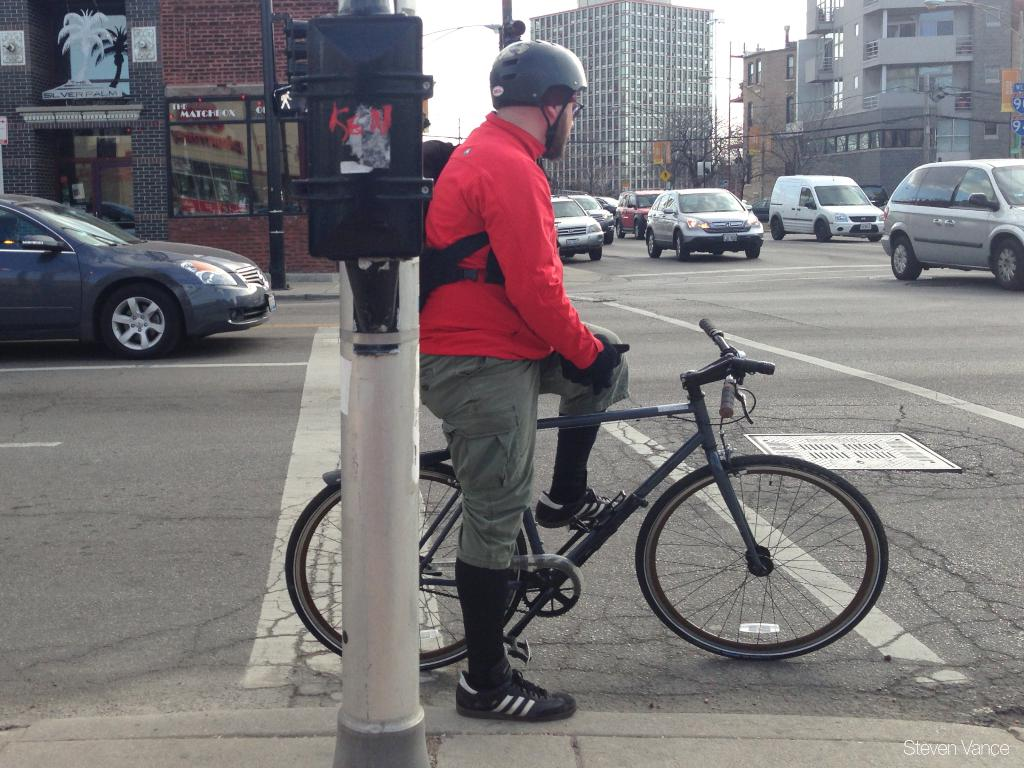Bike_toward: (334, 324, 816, 690)
